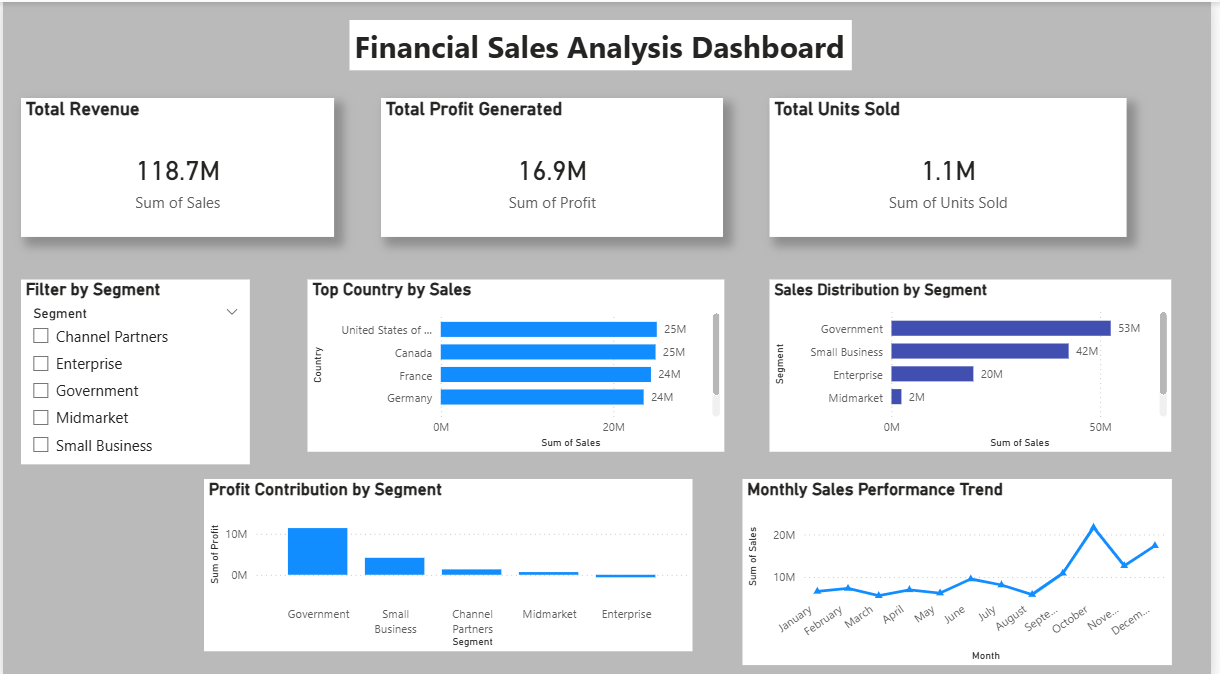

What the dashboard file says about the page in this screenshot:
{"tool":"powerbi","page":{"name":"Portfolio Dashboard","canvas":[1280,720],"ordinal":0},"visuals":[{"type":"card","title":"Total Revenue","fields":{"Values":["Sum(financials.Sales)"]},"box":[19.4,102,331.9,147.3],"z":0},{"type":"card","title":"Total Profit Generated","fields":{"Values":["Sum(financials.Profit)"]},"box":[401.6,102,362.7,147.3],"z":1000},{"type":"card","title":"Total Units Sold","fields":{"Values":["Sum(financials.Units Sold)"]},"box":[812.9,102,378.9,147.3],"z":2000},{"type":"clusteredBarChart","title":"Top Country by Sales ","fields":{"Y":["Sum(financials.Sales)"],"Category":["financials.Country"]},"box":[322.2,294.7,442,183],"z":3000},{"type":"clusteredBarChart","title":"Sales Distribution by Segment","fields":{"Category":["financials.Segment"],"Y":["Sum(financials.Sales)"]},"box":[812.8,294.3,426.3,182.9],"z":4000},{"type":"clusteredColumnChart","title":"Profit Contribution  by Segment","fields":{"Category":["financials.Segment"],"Y":["Sum(financials.Profit)"]},"box":[213.7,505.2,518.2,183],"z":5000},{"type":"lineChart","title":"Monthly Sales Performance Trend","fields":{"Category":["financials.Date.Variation.Date Hierarchy.Month"],"Y":["Sum(financials.Sales)"]},"box":[783.7,505.2,455,197.5],"z":6000},{"type":"slicer","title":" Filter by Segment","fields":{"Values":["financials.Segment"]},"box":[19.4,294.7,242.9,195.9],"z":7000},{"type":"textbox","box":[367.6,19.4,532.7,53.4],"z":8000}]}

Visuals, with their boxes in screenshot pixels (x1, y1, x2, y2), scaled from the page's 1280x720 canvas onto the 1220x674 screenshot:
"Total Revenue" card: <box>18,95,335,233</box>
"Total Profit Generated" card: <box>383,95,728,233</box>
"Total Units Sold" card: <box>775,95,1136,233</box>
"Top Country by Sales " clusteredBarChart: <box>307,276,728,447</box>
"Sales Distribution by Segment" clusteredBarChart: <box>775,275,1181,447</box>
"Profit Contribution  by Segment" clusteredColumnChart: <box>204,473,698,644</box>
"Monthly Sales Performance Trend" lineChart: <box>747,473,1181,658</box>
" Filter by Segment" slicer: <box>18,276,250,459</box>
textbox: <box>350,18,858,68</box>
